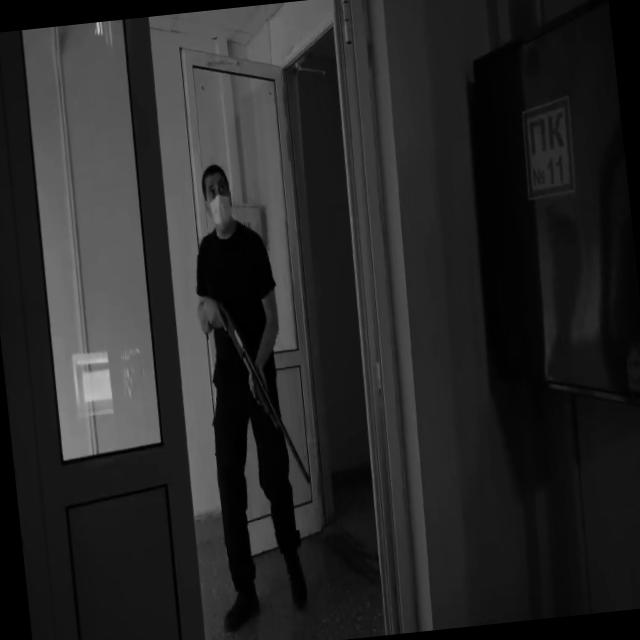gun: (214, 289, 312, 493)
person with a gun: (176, 157, 327, 631)
